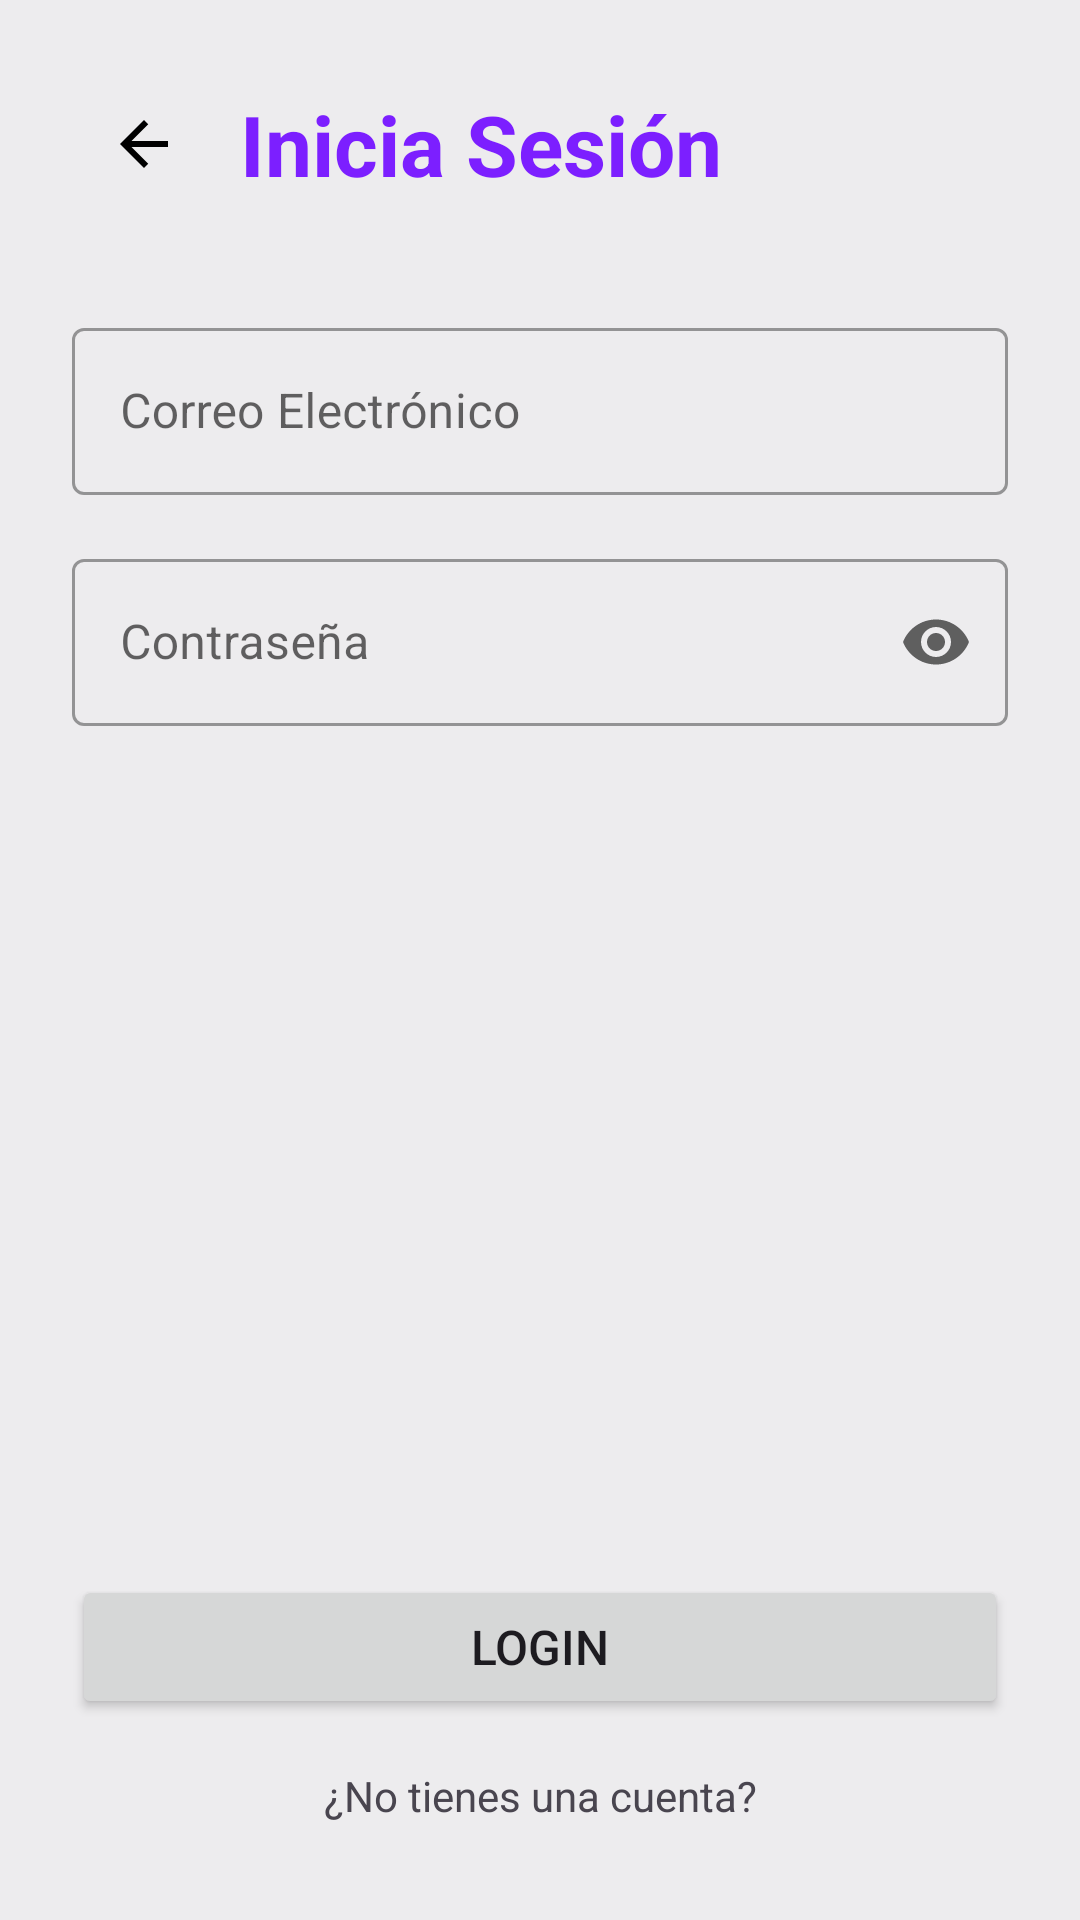

Icon bounding boxes for this 1080×1920 phone screenshot, format (x1, y1, x2, y2):
Ir atrás: (120, 120, 168, 168)
